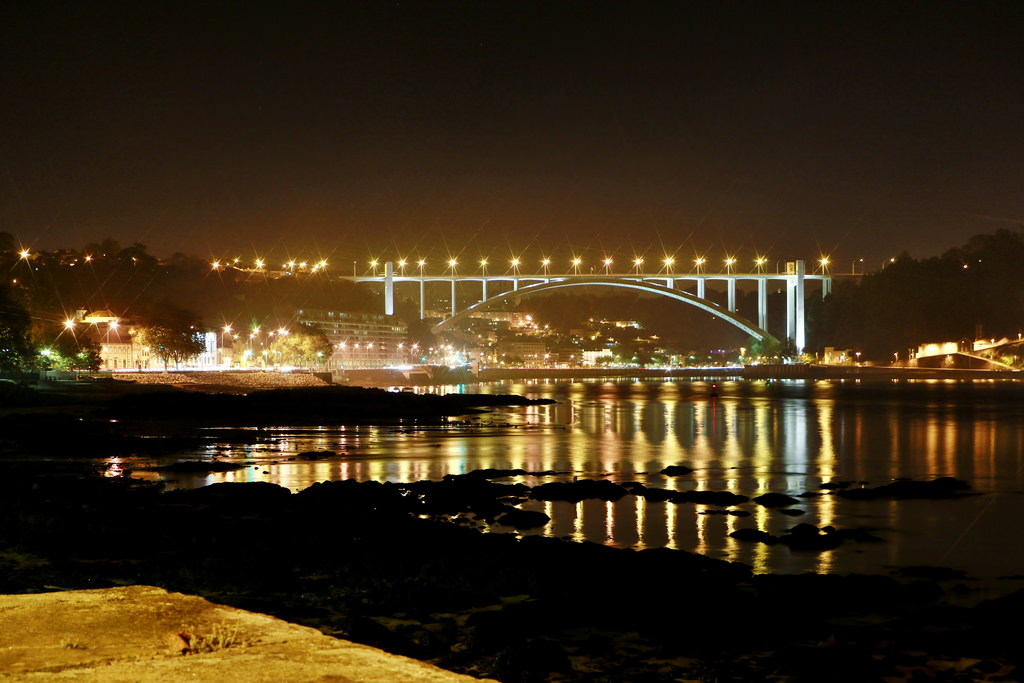arrabida: (336, 258, 842, 363)
